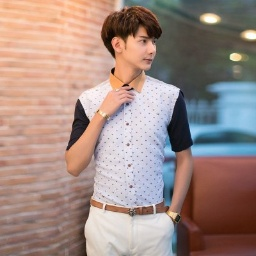face: (101, 6, 163, 74)
